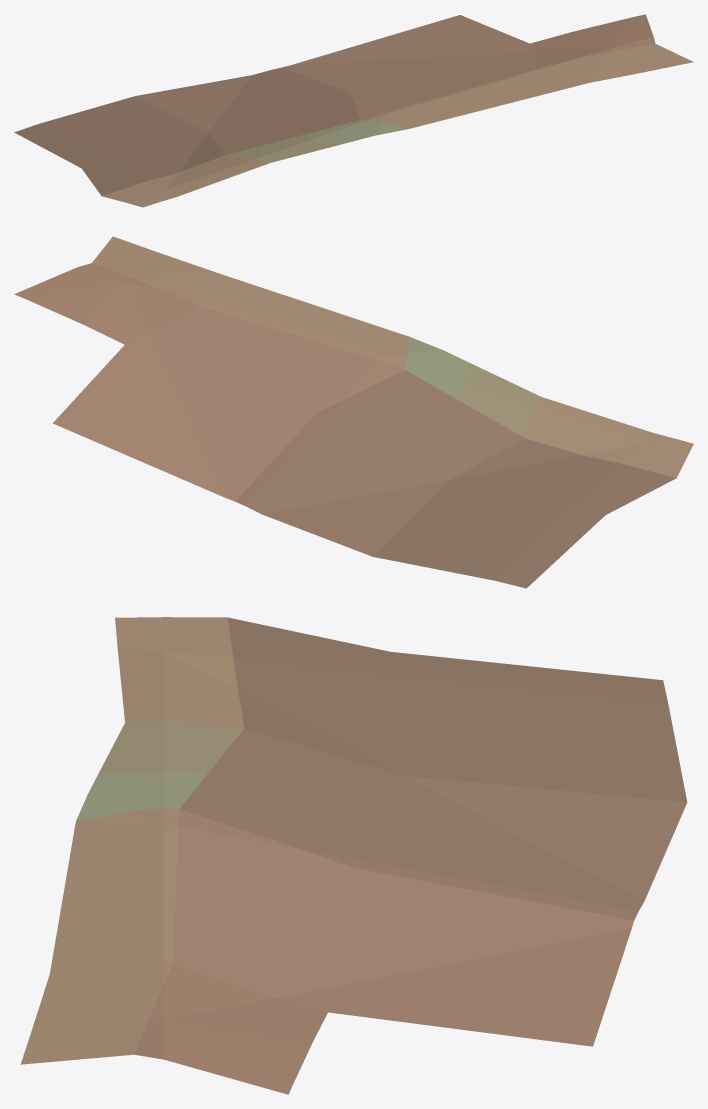
Rendered from farm_19_38_soil.glb.
3 views of the same model, one above another, from view 1: azimuth 30°, elevation 25°; view 2: azimuth 150°, elevation 25°; view 3: azimuth 270°, elevation 25° (orthographic). The views are drawn at different scales.
Visible parts, largest first — view 1: geometry_0; view 2: geometry_0; view 3: geometry_0.
Part boxes in pixels (box(x1,y1,x2,y2)): geometry_0: box(14, 14, 693, 207); geometry_0: box(14, 236, 693, 588); geometry_0: box(20, 617, 687, 1094).
Size of the model in its own units: 201 by 21.1 by 104.
